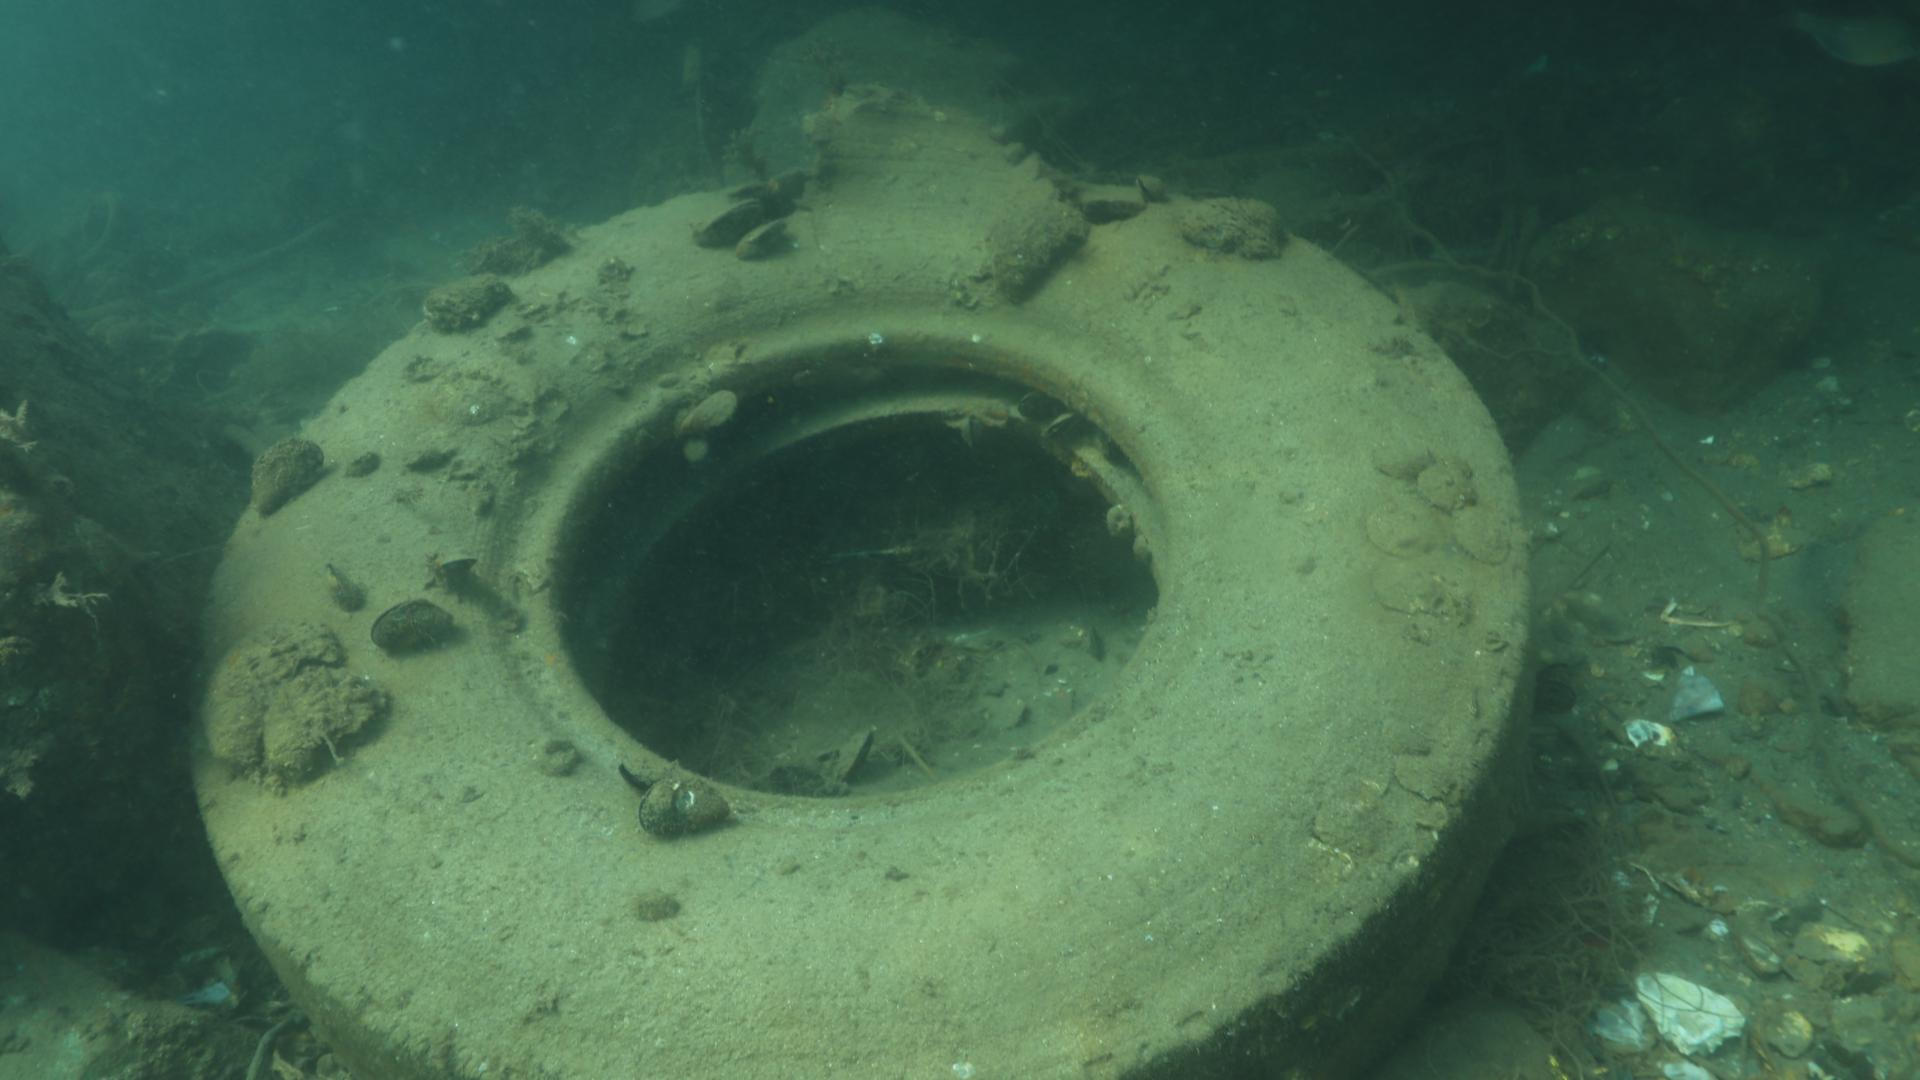tire: (178, 170, 1531, 1080)
